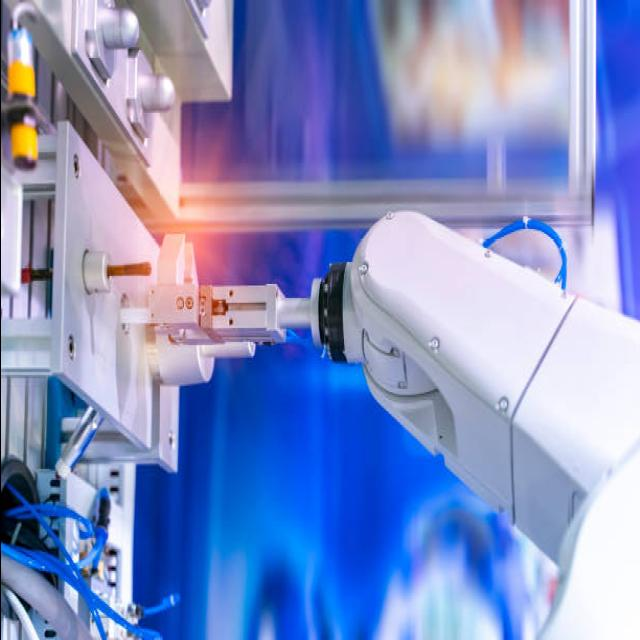Robotic-arm: (292, 200, 640, 640)
